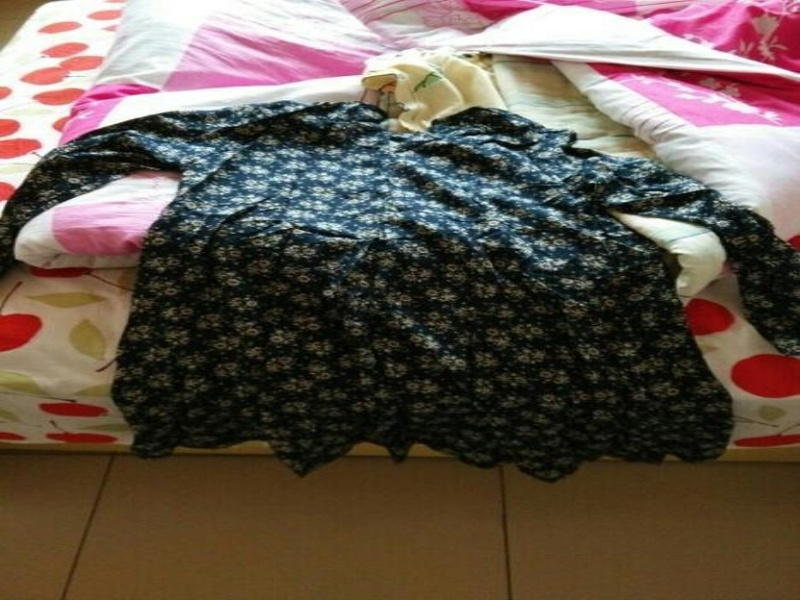long_sleeved_dress: (0, 91, 798, 486)
